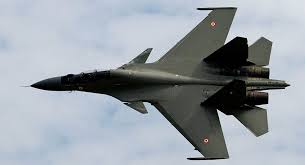maybay_muctieu: (23, 1, 289, 156)
